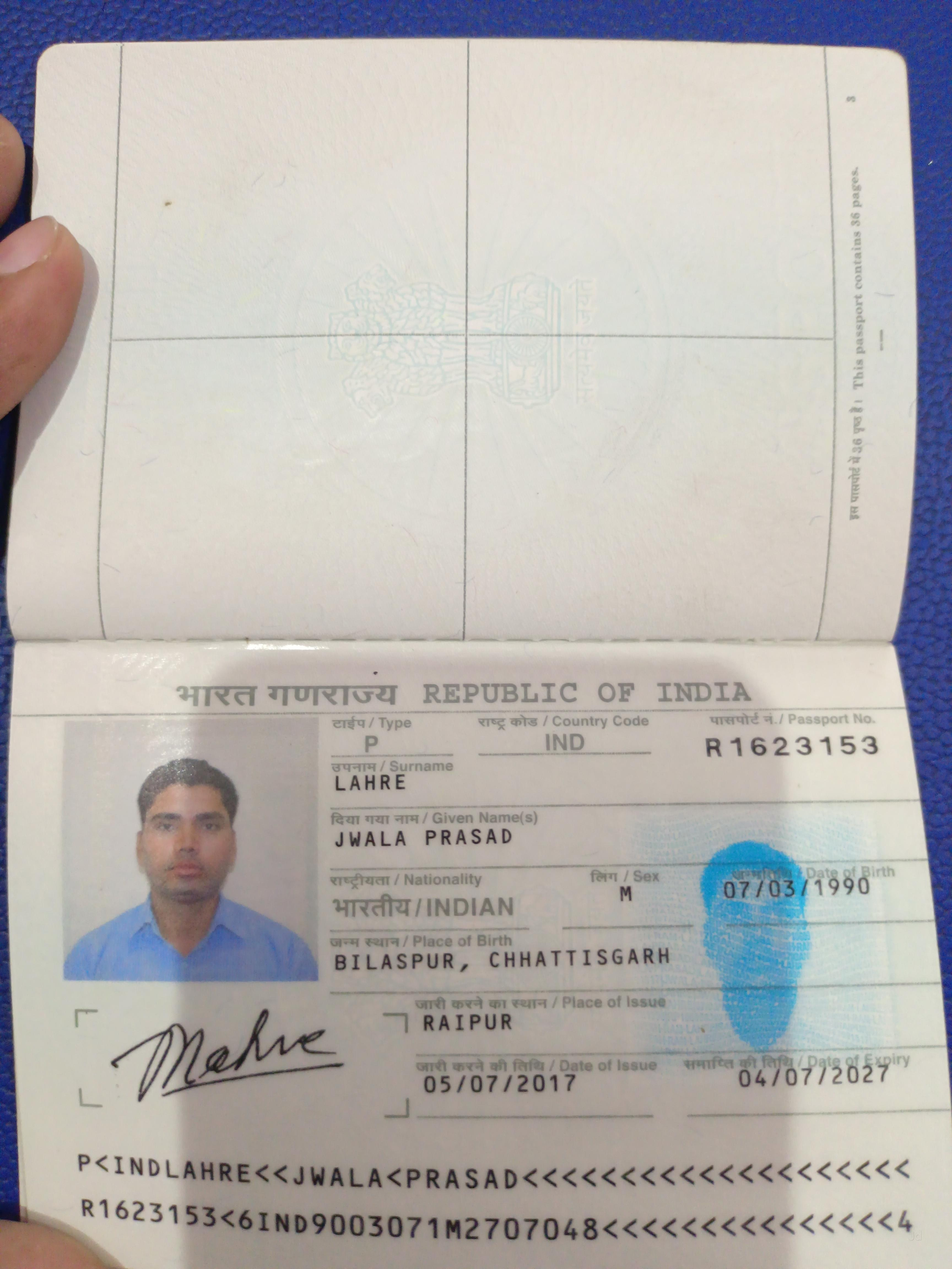DOB: (721, 875, 874, 906)
Surname: (331, 771, 422, 801)
country_code: (539, 728, 589, 759)
date_of_expiry: (736, 1066, 896, 1091)
date_of_issue: (410, 1069, 581, 1099)
details: (58, 1144, 926, 1245)
name: (327, 825, 528, 851)
nationality: (328, 890, 518, 924)
passport_no: (697, 731, 888, 768)
photo: (59, 723, 314, 979)
place_of_birth: (331, 945, 702, 979)
place_of_issue: (413, 1008, 530, 1037)
sex: (612, 878, 643, 911)
sign: (123, 1017, 354, 1107)
type: (358, 733, 385, 759)
